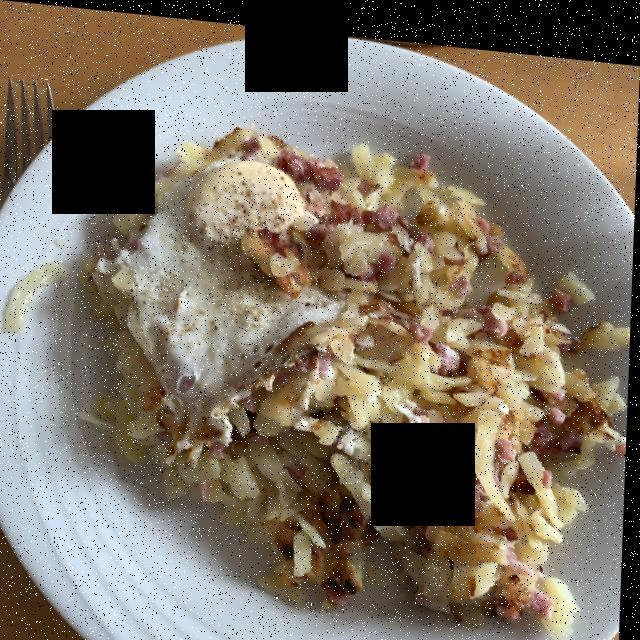egg: (110, 144, 345, 459)
